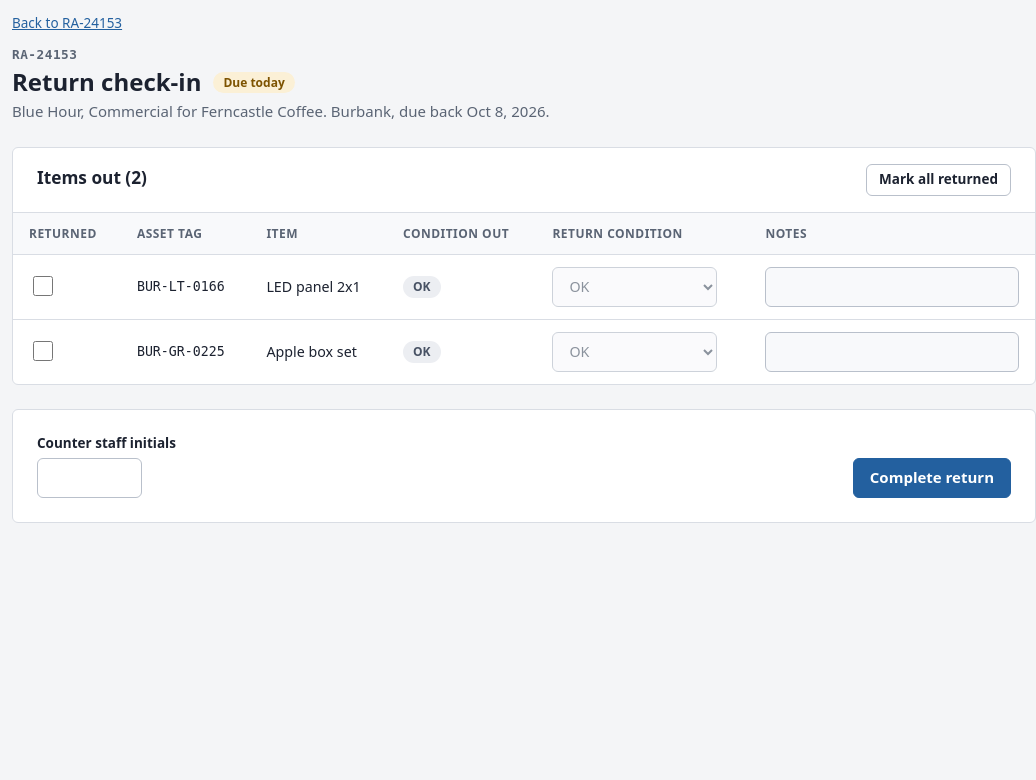
Test: ReturnCheckIn › marks the agreement Returned when the last items come back
Click the button "Mark all returned" at (939, 180), box [866,164,1011,196]
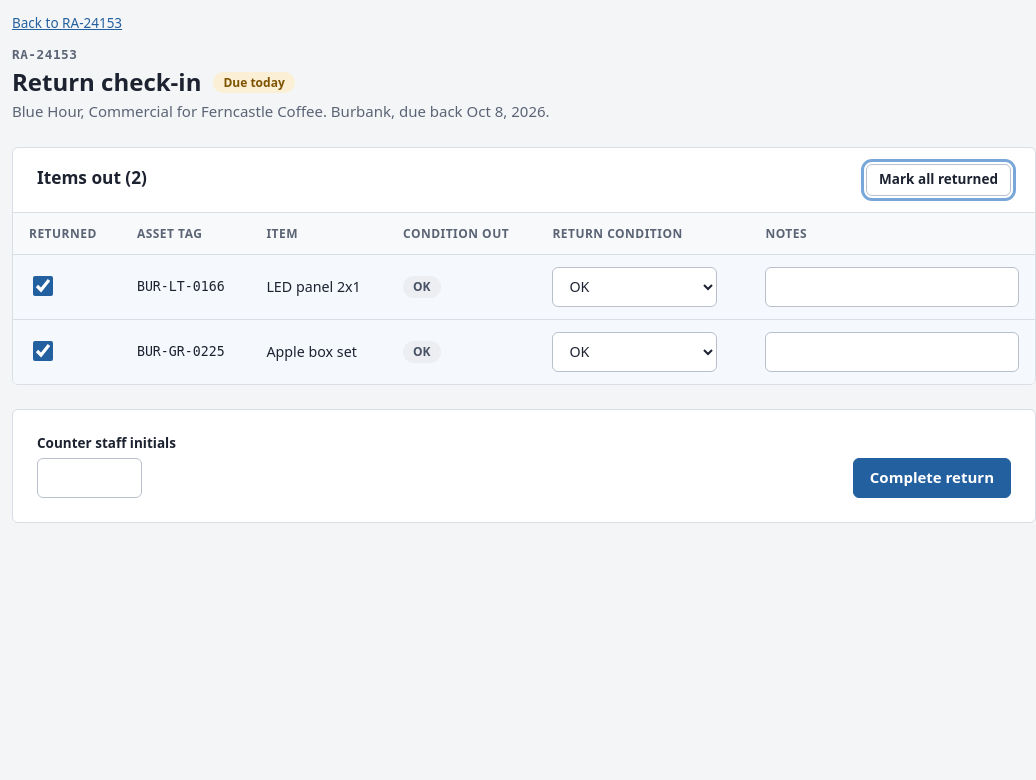
Type "LI" into the field labelled "Counter staff initials" at (90, 478), box [37,458,142,498]
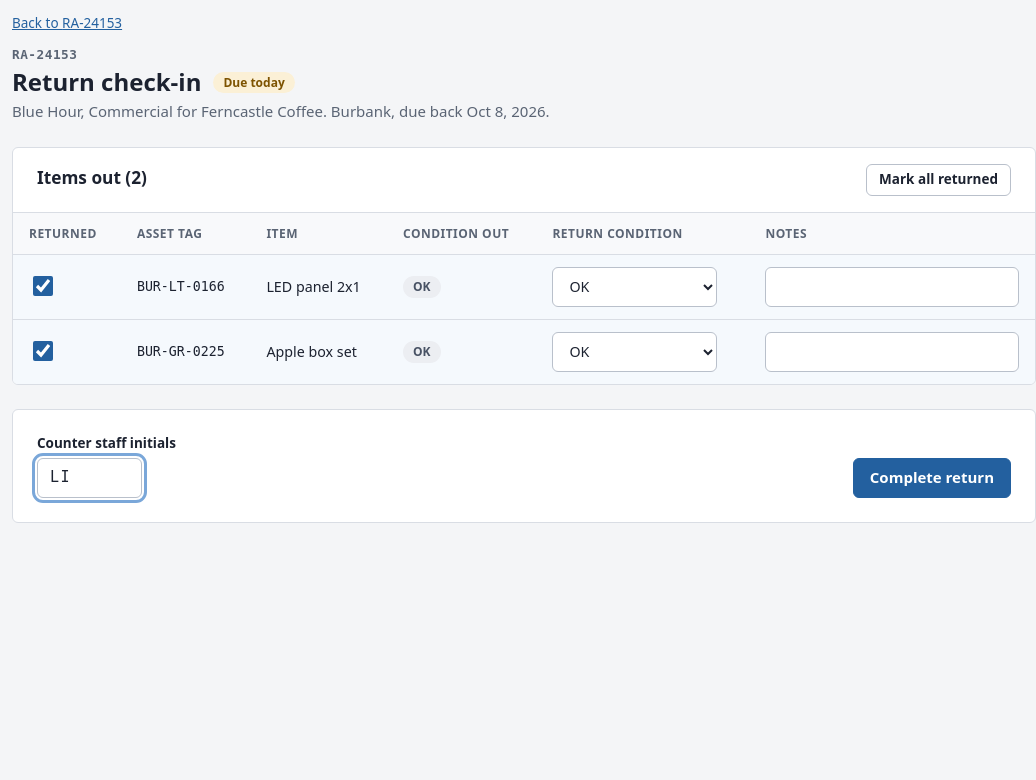
Click the button "Complete return" at (932, 478), box [853,458,1011,498]
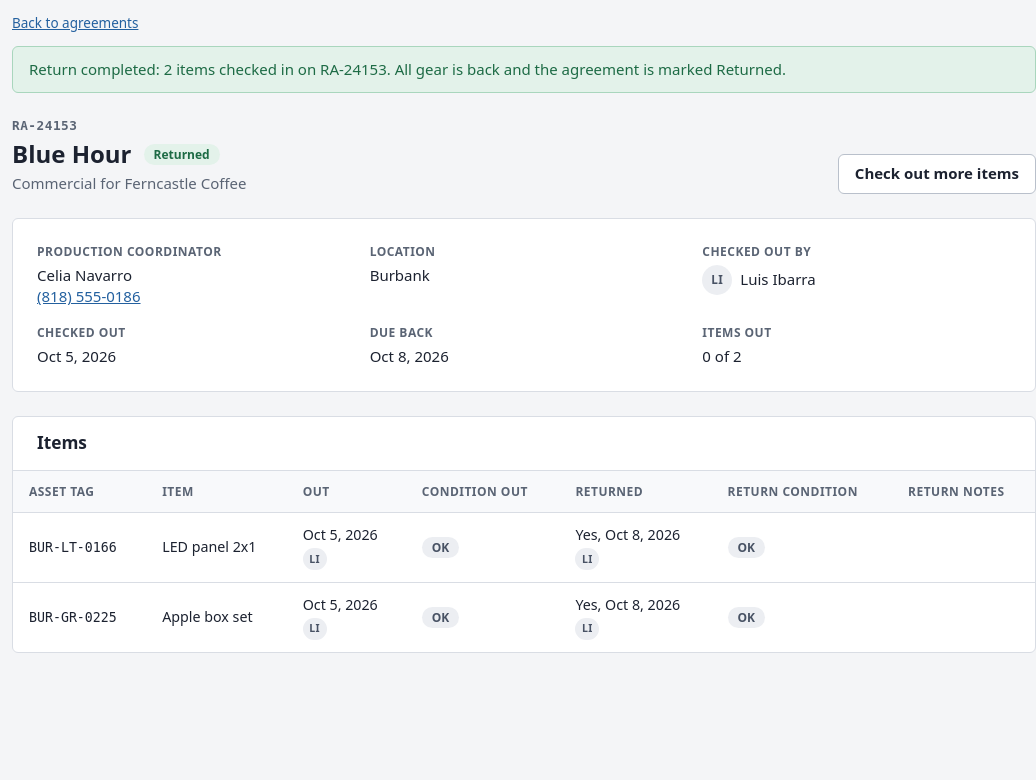
Check: the message shows "the agreement is marked Returned", box [29,59,786,79]
Check: the text "0 of 2" is shown, box [702,346,742,366]
Check: the heading "Return check-in" is gone
